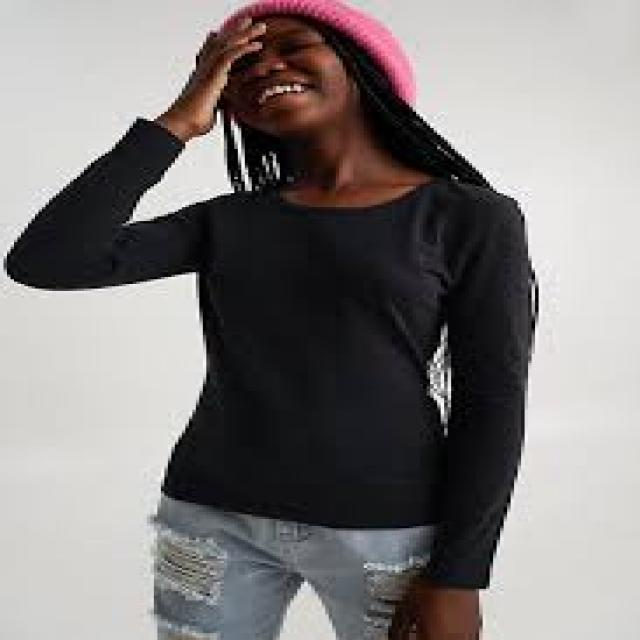plain: (14, 152, 552, 526)
